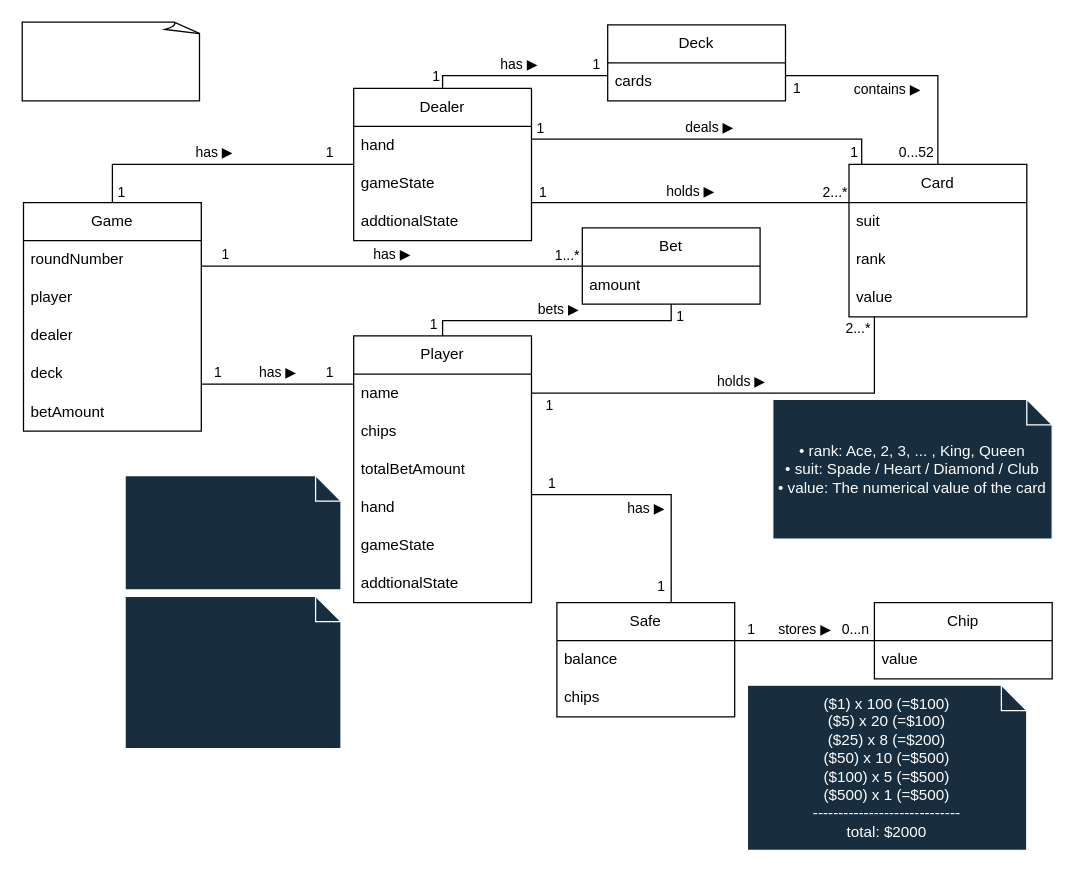
Image size: 1074x872. Some labels were removed from this diagram. Each missing label, with the centre of its shape:
additional state description (1) nothing (2) split (3) double down (4) surrender: the point at 232,672
Contributers : Marie, Jaehoon: the point at 111,61
game state description (1) nothing (2) win (3) bust (lose) (4) tie (draw): the point at 232,532
